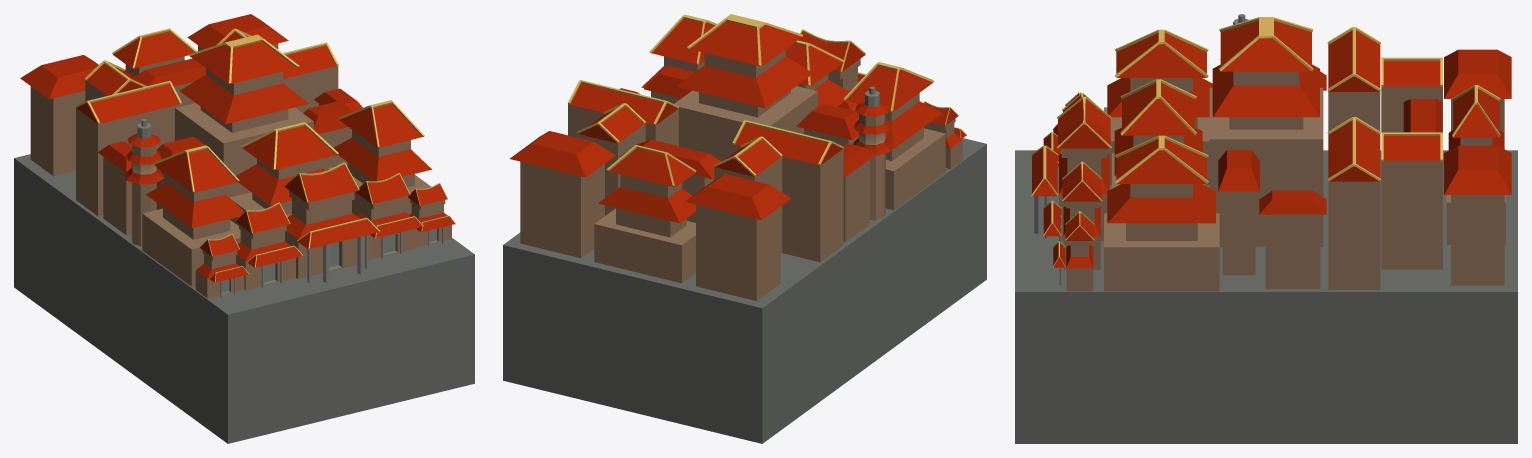
Rendered from temple_north_HIGH1.fbx.
3 renders of one model, left to right at view 1: azimuth 30°, elevation 25°; view 2: azimuth 150°, elevation 25°; view 3: azimuth 270°, elevation 25°, orthographic. The views are drawn at different scales.
Visible parts, largest first — view 1: temple_north_HIGH1; view 2: temple_north_HIGH1; view 3: temple_north_HIGH1.
Boxes of the visible parts, x1=… form: temple_north_HIGH1: x1=14, y1=14, x2=474, y2=443; temple_north_HIGH1: x1=503, y1=14, x2=986, y2=443; temple_north_HIGH1: x1=1015, y1=14, x2=1517, y2=443.
Size of the model in its own units: 10.22 by 11.4 by 15.
